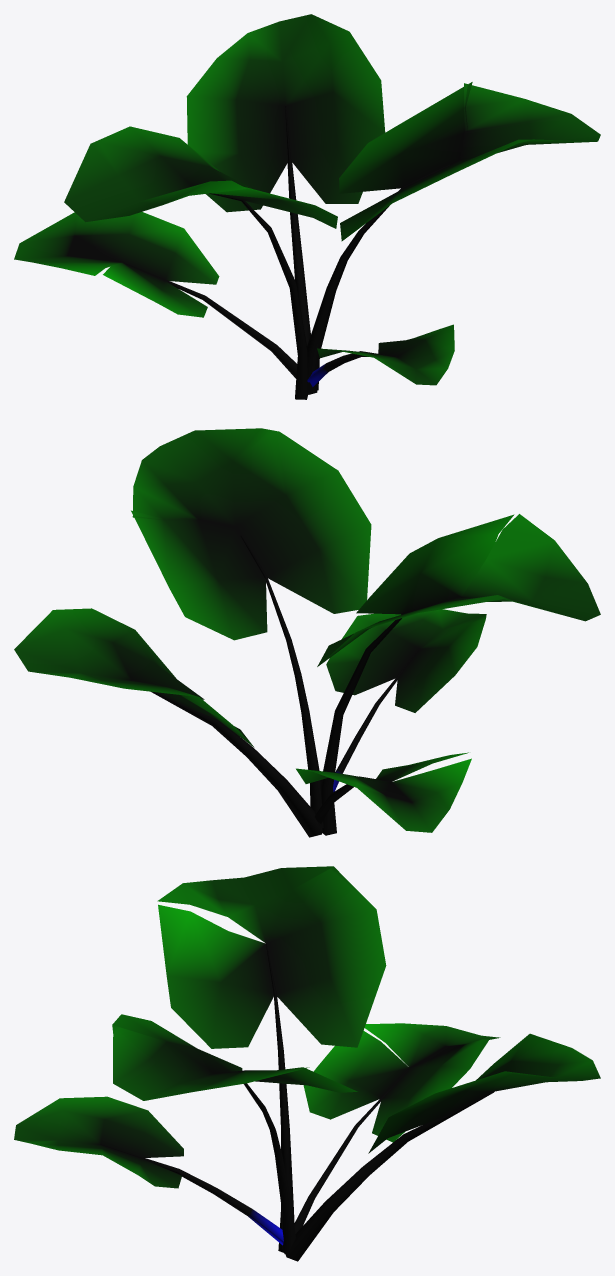
The model's file is Alocasia02_afsTREE_xlprl08_xafs.fbx.
3 views of the same model, one above another, from view 1: azimuth 30°, elevation 25°; view 2: azimuth 150°, elevation 25°; view 3: azimuth 270°, elevation 25° (orthographic). The views are drawn at different scales.
Visible parts, largest first — view 1: alocasia_xw02_xt03_xlp02_xp06.001, trunk_xw06_xt05_xlp05_xp07, alocasia_xw04_xt05_xlp04, alocasia_xw03_xt04_xlp02_xp10, alocasia_xw02_xt03_xlp02_xp06_xds10; view 2: trunk_xw06_xt05_xlp05_xp07, alocasia_xw04_xt05_xlp04, alocasia_xw02_xt03_xlp02_xp06.001, alocasia_xw02_xt03_xlp02_xp06_xds10, alocasia_xw03_xt04_xlp02_xp10; view 3: alocasia_xw04_xt05_xlp04, alocasia_xw03_xt04_xlp02_xp10, trunk_xw06_xt05_xlp05_xp07, alocasia_xw02_xt03_xlp02_xp06_xds10, alocasia_xw02_xt03_xlp02_xp06.001.
Part boxes in pixels (bbox=[...]): alocasia_xw02_xt03_xlp02_xp06.001: bbox=[186, 14, 385, 394]; trunk_xw06_xt05_xlp05_xp07: bbox=[307, 82, 600, 392]; alocasia_xw04_xt05_xlp04: bbox=[64, 126, 337, 399]; alocasia_xw03_xt04_xlp02_xp10: bbox=[14, 212, 297, 378]; alocasia_xw02_xt03_xlp02_xp06_xds10: bbox=[307, 324, 454, 386]; trunk_xw06_xt05_xlp05_xp07: bbox=[131, 428, 371, 828]; alocasia_xw04_xt05_xlp04: bbox=[317, 514, 600, 835]; alocasia_xw02_xt03_xlp02_xp06.001: bbox=[14, 608, 322, 837]; alocasia_xw02_xt03_xlp02_xp06_xds10: bbox=[326, 609, 486, 791]; alocasia_xw03_xt04_xlp02_xp10: bbox=[296, 752, 471, 832]; alocasia_xw04_xt05_xlp04: bbox=[157, 866, 386, 1252]; alocasia_xw03_xt04_xlp02_xp10: bbox=[294, 1023, 500, 1233]; trunk_xw06_xt05_xlp05_xp07: bbox=[112, 1014, 357, 1254]; alocasia_xw02_xt03_xlp02_xp06_xds10: bbox=[14, 1096, 283, 1245]; alocasia_xw02_xt03_xlp02_xp06.001: bbox=[285, 1033, 600, 1261].
Size of the model in its own units: 1.62 by 1.71 by 0.9544.
